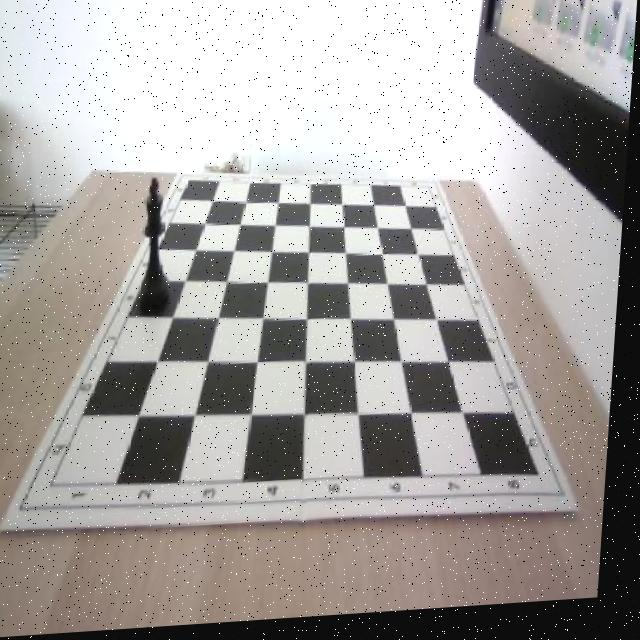black-bishop: (138, 178, 183, 319)
